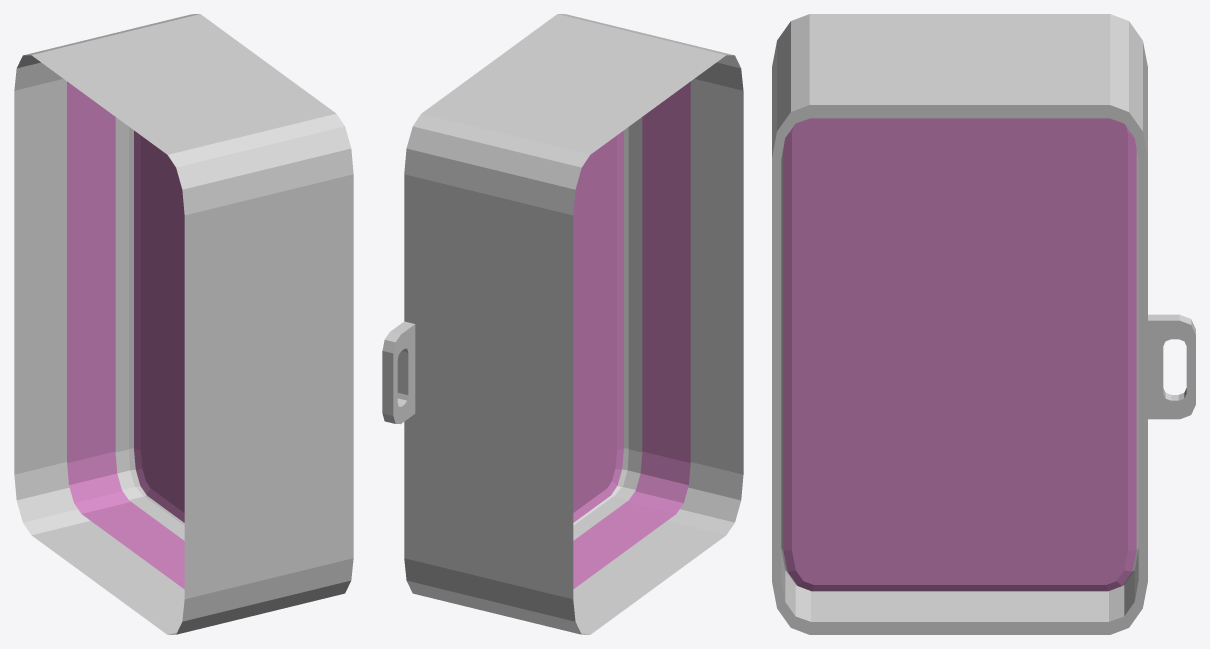
The model's file is breaker_base.fbx.
3 views of the same model, side by side, from view 1: azimuth 30°, elevation 25°; view 2: azimuth 150°, elevation 25°; view 3: azimuth 270°, elevation 25° (orthographic). The views are drawn at different scales.
Parts seen in each view (by area): view 1: breaker blank; view 2: breaker blank; view 3: breaker blank.
Part boxes in pixels (left/top/right/bottom): breaker blank: left=14, top=14, right=353, bottom=634; breaker blank: left=382, top=14, right=743, bottom=634; breaker blank: left=772, top=14, right=1195, bottom=634.
Bounding box in the file's own units: 30.59 × 83.03 × 60.21.
